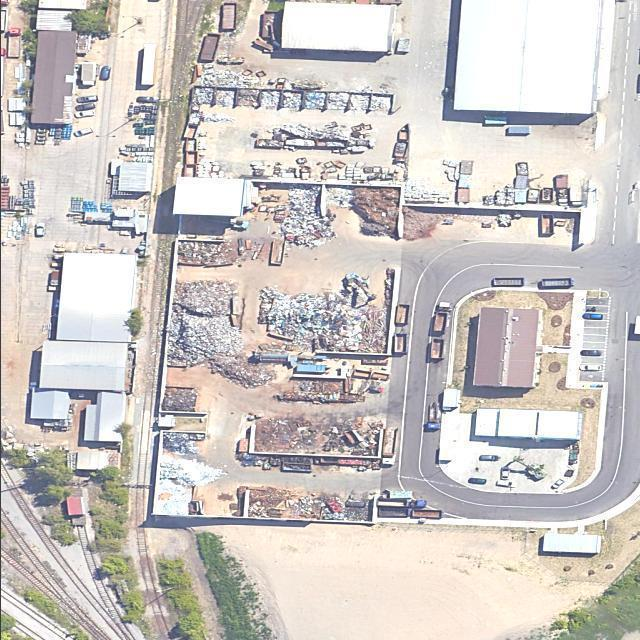dump_site: (254, 272, 389, 353), (254, 417, 380, 456), (248, 488, 373, 522), (166, 313, 240, 366), (279, 185, 336, 249), (349, 186, 400, 241), (204, 355, 276, 390), (172, 280, 234, 317), (196, 65, 261, 89), (176, 240, 237, 265), (161, 432, 207, 454), (160, 388, 201, 412), (322, 92, 349, 111), (303, 91, 326, 112), (235, 89, 258, 108), (258, 89, 281, 108), (279, 90, 302, 109), (346, 93, 370, 111), (192, 87, 213, 105), (216, 89, 235, 108), (369, 95, 389, 113)
